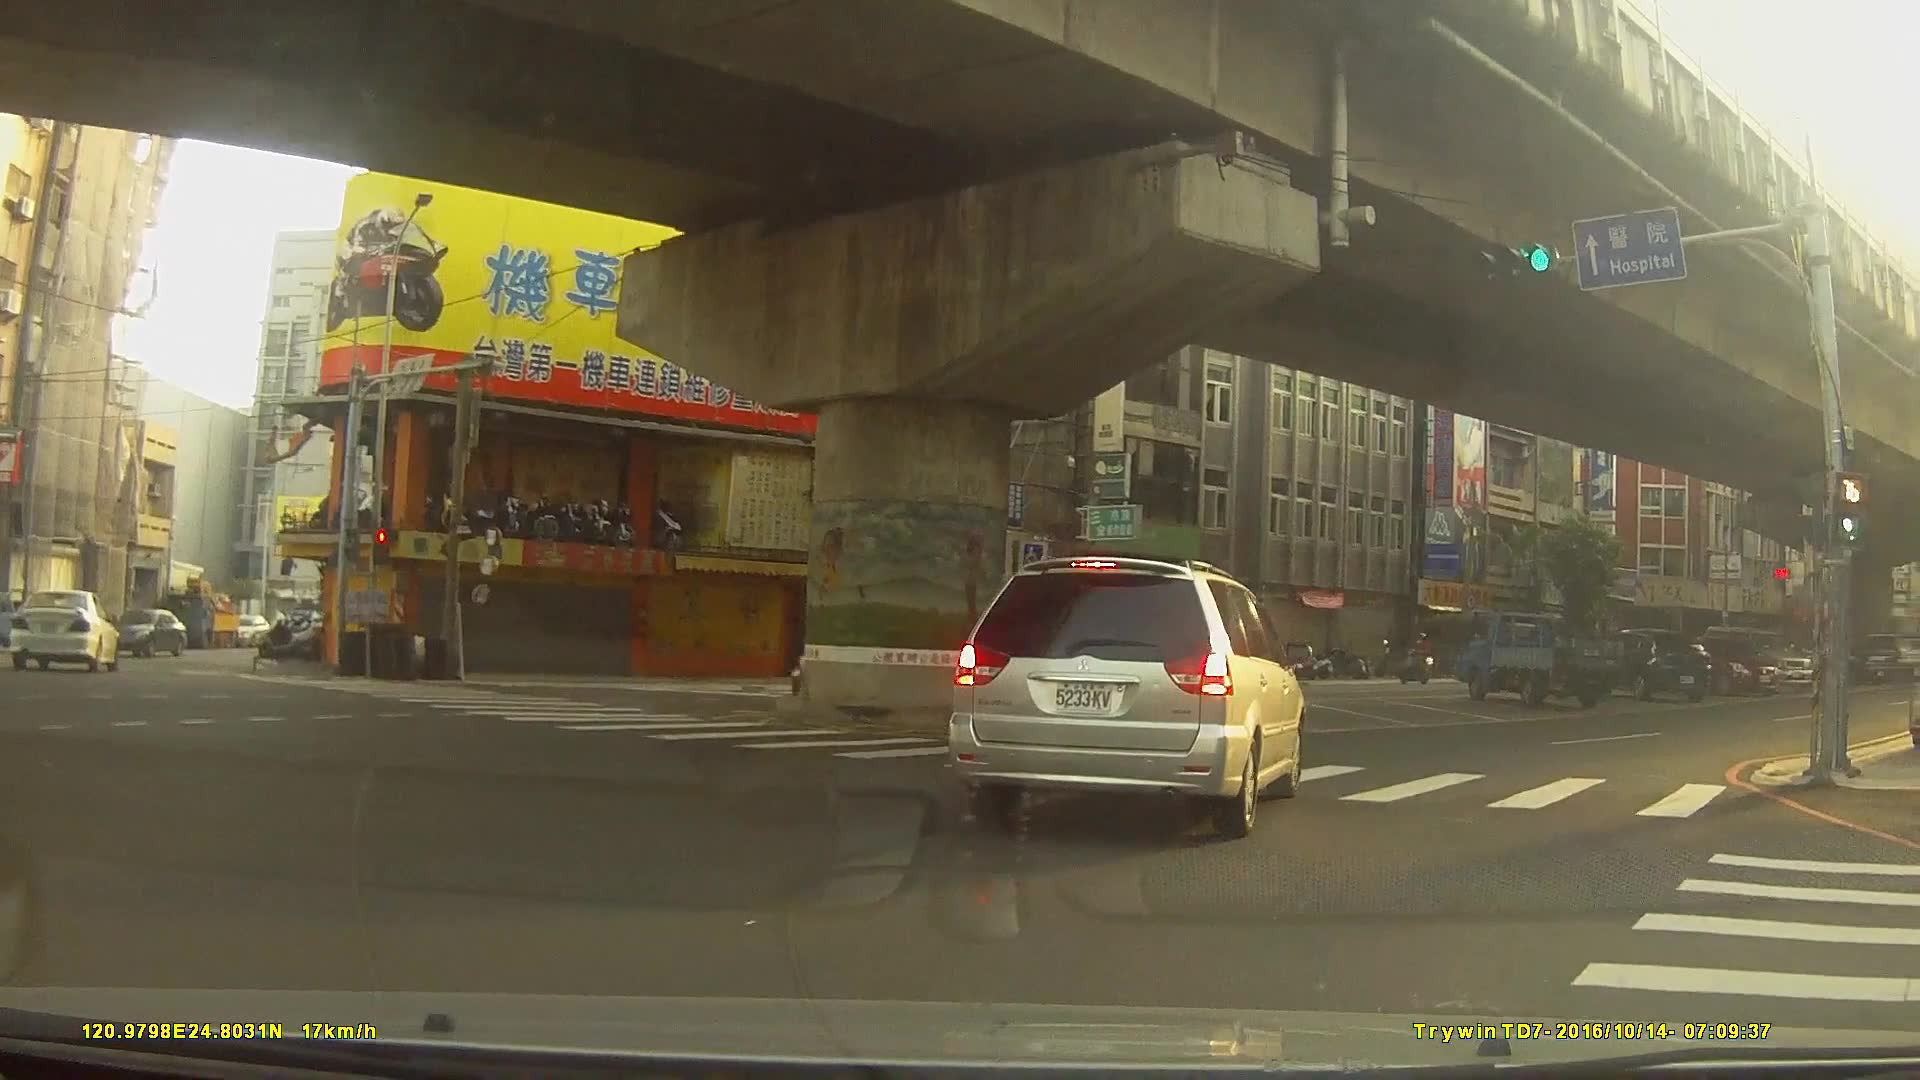rider: (783, 599, 868, 701), (1402, 633, 1437, 685)
vehicle: (944, 555, 1304, 838), (1452, 610, 1622, 709), (1581, 624, 1710, 699), (10, 586, 121, 673), (1674, 633, 1780, 696), (112, 605, 186, 655), (227, 613, 270, 644)
